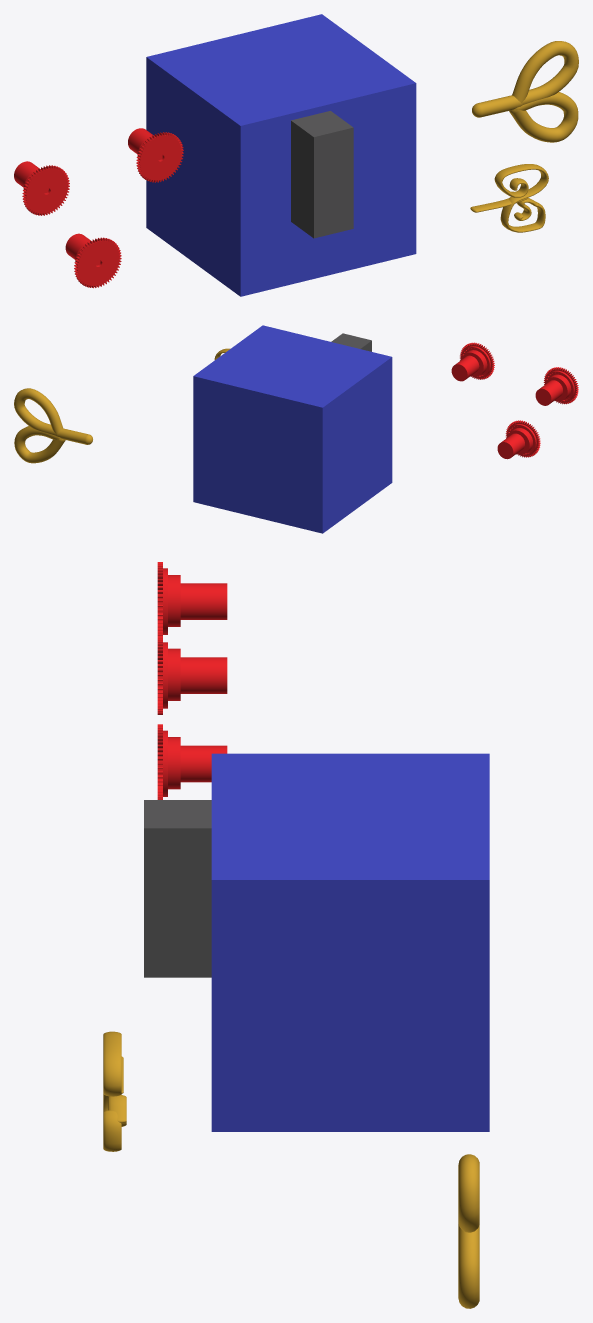
File: gearsUntextured.fbx
The picture shows the model from 3 angles, top to bottom: view 1: azimuth 30°, elevation 25°; view 2: azimuth 150°, elevation 25°; view 3: azimuth 270°, elevation 25°; orthographic projection. The views are drawn at different scales.
Parts seen in each view (by area): view 1: root (×5), node_id77, node_id70, node_id40, node_id127; view 2: root (×11), node_id40, node_id70, node_id77; view 3: root (×7), node_id127.
Part boxes in pixels (x1,y1,x2,y2): root (×5): (146,14,578,296); node_id77: (22,165,69,215); node_id70: (136,132,183,182); node_id40: (74,237,121,288); node_id127: (494,164,548,232); root (×11): (14,325,571,533); node_id40: (505,420,540,457); node_id70: (460,342,494,379); node_id77: (543,367,578,404); root (×7): (144,583,489,1308); node_id127: (103,1031,121,1151).
Size of the model in its own units: 2.23 by 0.67 by 0.7675.
11 materials, 10 textured.
